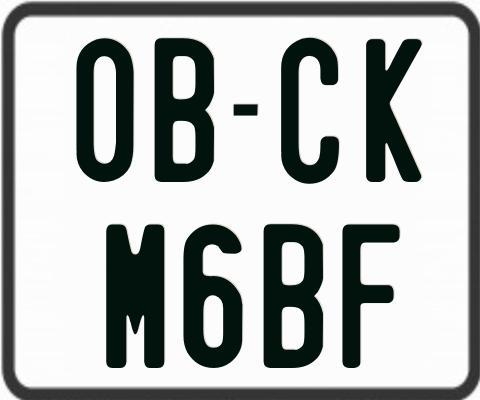0: (76, 38, 140, 183)
6: (180, 221, 239, 371)
B: (153, 37, 217, 186), (264, 221, 328, 368)
C: (281, 37, 341, 186)
F: (341, 222, 403, 371)
K: (366, 38, 422, 186)
M: (106, 221, 168, 368)
